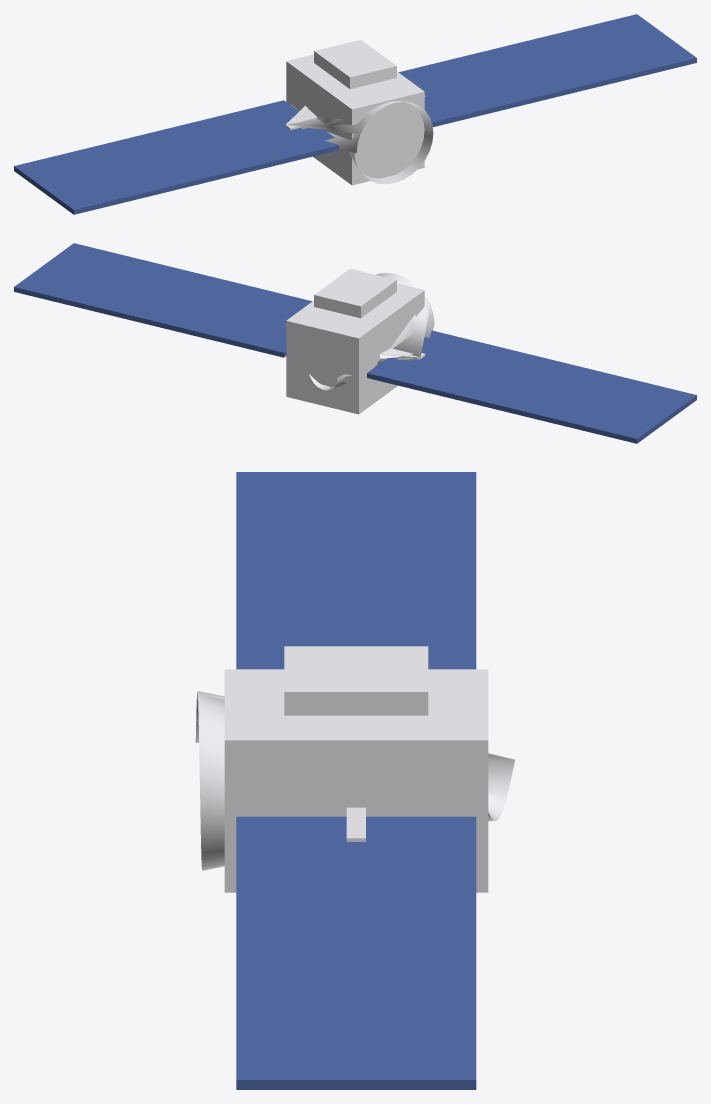
File: probe.glb
3 views of the same model, one above another, from view 1: azimuth 30°, elevation 25°; view 2: azimuth 150°, elevation 25°; view 3: azimuth 270°, elevation 25° (orthographic). The views are drawn at different scales.
Visible parts, largest first — view 1: body, panelLOut, panelROut, panelLIn, panelRIn; view 2: body, panelLOut, panelROut, panelLIn, panelRIn; view 3: body, panelROut, panelLOut, panelRIn, panelLIn.
Part boxes in pixels (x1,y1,x2,y2): body: [285, 39, 433, 185]; panelLOut: [14, 133, 208, 214]; panelROut: [502, 14, 696, 95]; panelLIn: [149, 100, 340, 181]; panelRIn: [399, 47, 561, 127]; body: [285, 268, 434, 414]; panelLOut: [502, 362, 696, 443]; panelROut: [14, 243, 208, 324]; panelLIn: [367, 330, 561, 410]; panelRIn: [149, 276, 311, 357]; body: [195, 646, 514, 892]; panelROut: [236, 948, 476, 1089]; panelLOut: [236, 472, 476, 603]; panelRIn: [236, 816, 476, 948]; panelLIn: [236, 603, 476, 669].
Bounding box in the file's own units: 12 × 1.78 × 2.67.
